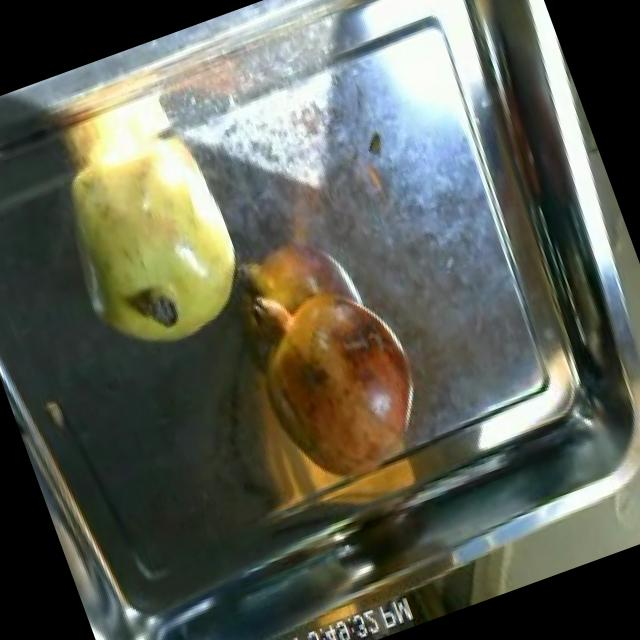fruit: (16, 85, 283, 388), (228, 256, 452, 510)
